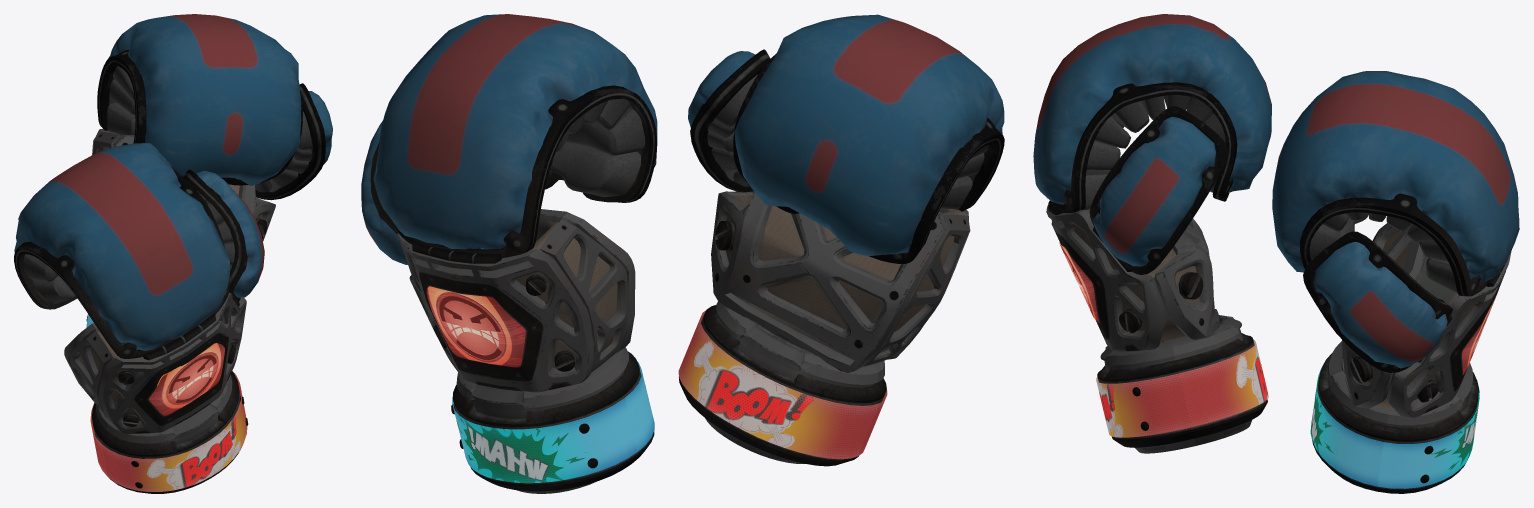
The model's file is glove.glb.
3 views of the same model, side by side, from view 1: azimuth 30°, elevation 25°; view 2: azimuth 150°, elevation 25°; view 3: azimuth 270°, elevation 25° (orthographic). The views are drawn at different scales.
Visible parts, largest first — view 1: body_0_pathfinder_heirloom.001, body_0_pathfinder_heirloom, body_0_pathfinder_heirloom_wham_emote_pathfinder_heirloom_wh, body_0_pathfinder_base_emotes.001; view 2: body_0_pathfinder_heirloom.001, body_0_pathfinder_heirloom, body_0_pathfinder_heirloom_wham_emote_pathfinder_heirloom_wh, body_0_pathfinder_heirloom_oops_emote_pathfinder_heirloom_oo, body_0_pathfinder_base_emotes; view 3: body_0_pathfinder_heirloom, body_0_pathfinder_heirloom.001, body_0_pathfinder_heirloom_wham_emote_pathfinder_heirloom_wh, body_0_pathfinder_heirloom_oops_emote_pathfinder_heirloom_oo, body_0_pathfinder_base_emotes.001.
Boxes of the visible parts, bbox=[...] form: body_0_pathfinder_heirloom.001: bbox=[14, 143, 264, 493]; body_0_pathfinder_heirloom: bbox=[86, 14, 332, 321]; body_0_pathfinder_heirloom_wham_emote_pathfinder_heirloom_wh: bbox=[90, 371, 247, 491]; body_0_pathfinder_base_emotes.001: bbox=[149, 343, 224, 415]; body_0_pathfinder_heirloom.001: bbox=[679, 14, 1004, 466]; body_0_pathfinder_heirloom: bbox=[361, 14, 657, 493]; body_0_pathfinder_heirloom_wham_emote_pathfinder_heirloom_wh: bbox=[678, 310, 887, 459]; body_0_pathfinder_heirloom_oops_emote_pathfinder_heirloom_oo: bbox=[452, 361, 654, 483]; body_0_pathfinder_base_emotes: bbox=[426, 286, 525, 367]; body_0_pathfinder_heirloom: bbox=[1272, 71, 1519, 493]; body_0_pathfinder_heirloom.001: bbox=[1033, 14, 1271, 453]; body_0_pathfinder_heirloom_wham_emote_pathfinder_heirloom_wh: bbox=[1096, 339, 1268, 437]; body_0_pathfinder_heirloom_oops_emote_pathfinder_heirloom_oo: bbox=[1310, 366, 1479, 488]; body_0_pathfinder_base_emotes.001: bbox=[1059, 242, 1098, 321].
Bounding box in the file's own units: 13.45 × 12.32 × 12.71.
Materials: 4 (4 with a texture image).
